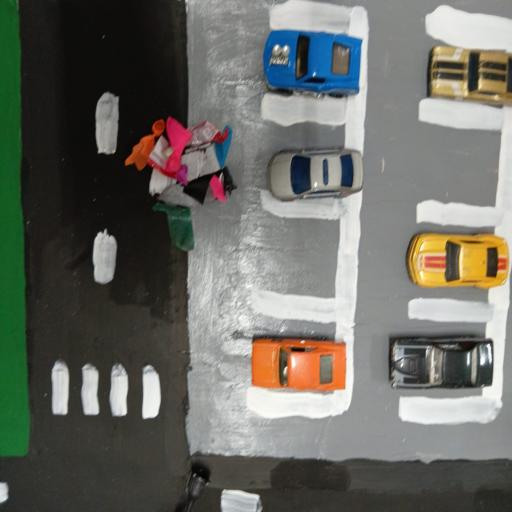trash: (128, 114, 240, 254)
